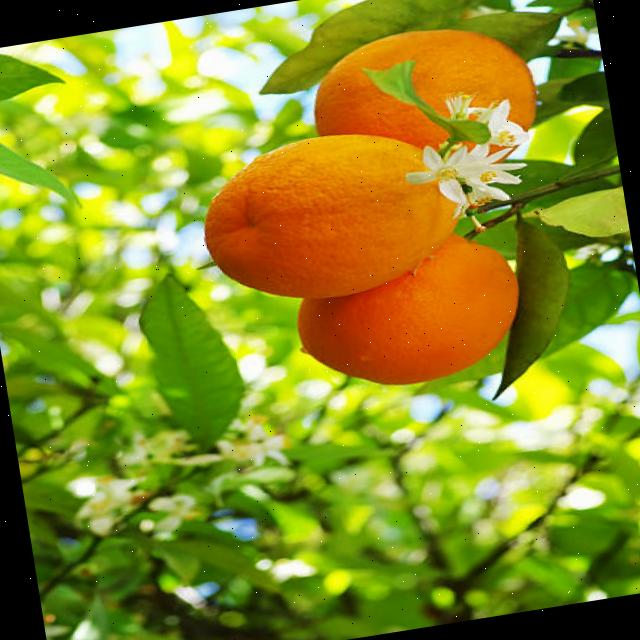Ripe: (183, 111, 486, 321), (284, 239, 526, 402), (301, 11, 543, 152)
